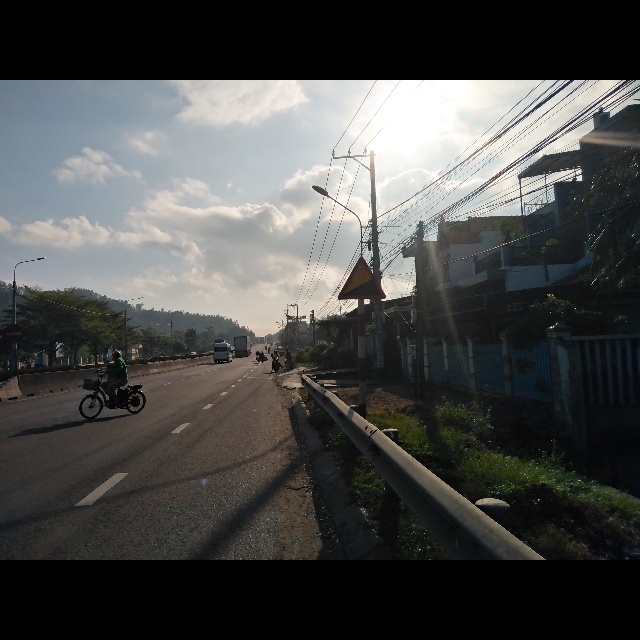Dốc lên nguy hiểm: (338, 257, 385, 302)
